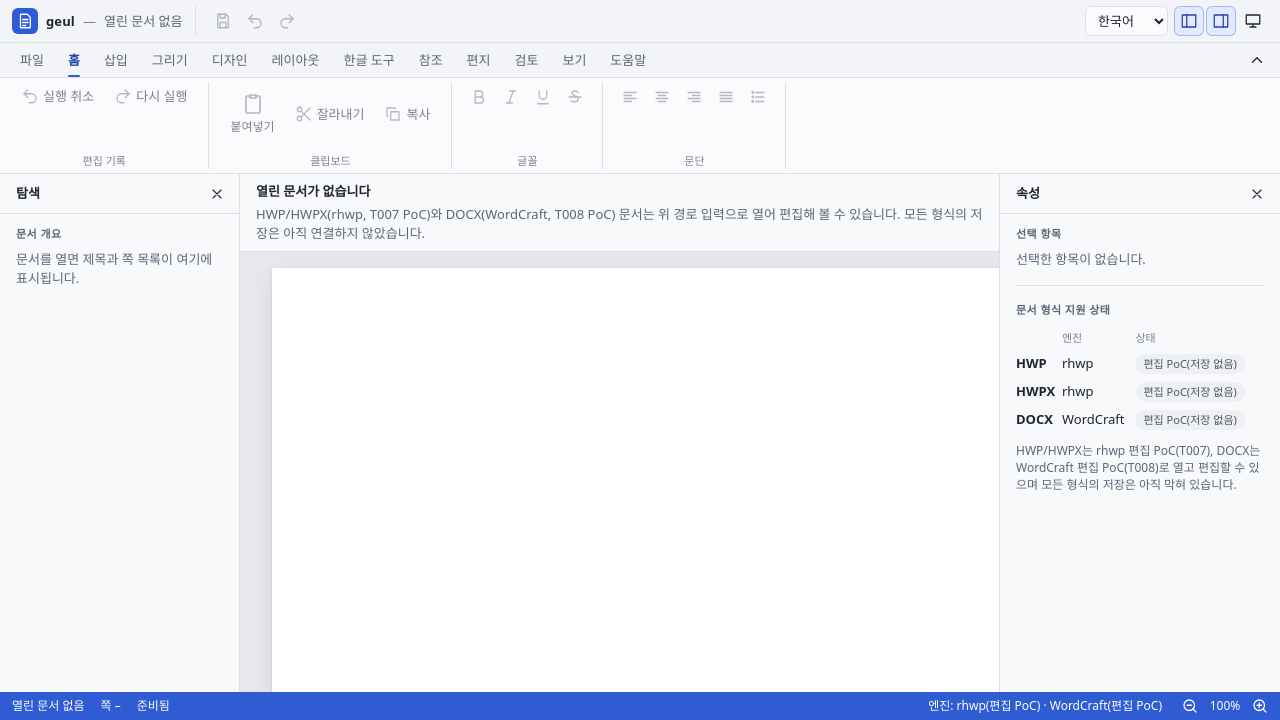
Scenario: 패널 표시와 숨기기 › 속성 창도 독립적으로 숨기고 되살린다
The image size is (1280, 720).
Step 1. Click the button named "속성 창 닫기" → (1257, 194), box [1242,178,1272,208]
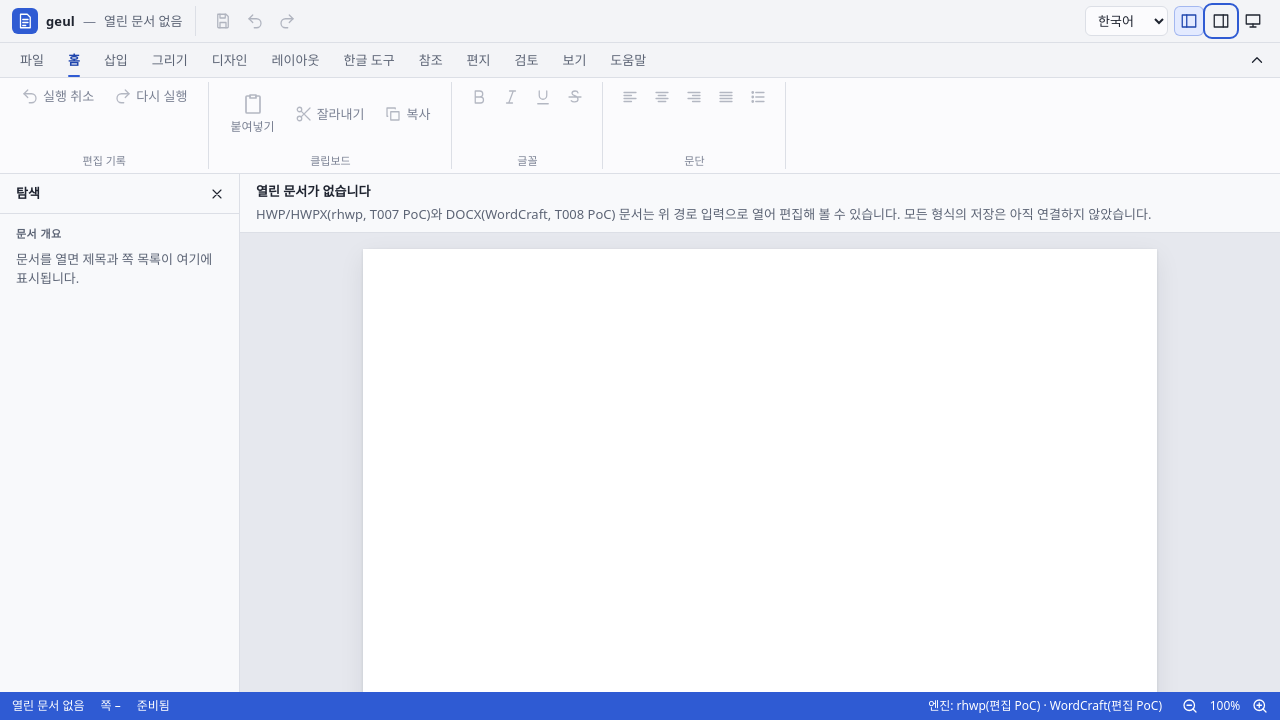
Check: the element "탐색" is shown, box [0,174,240,692]
Check: the heading "속성" is gone
Step 2. Click the button named "속성 창 표시" → (1221, 21), box [1206,6,1236,36]
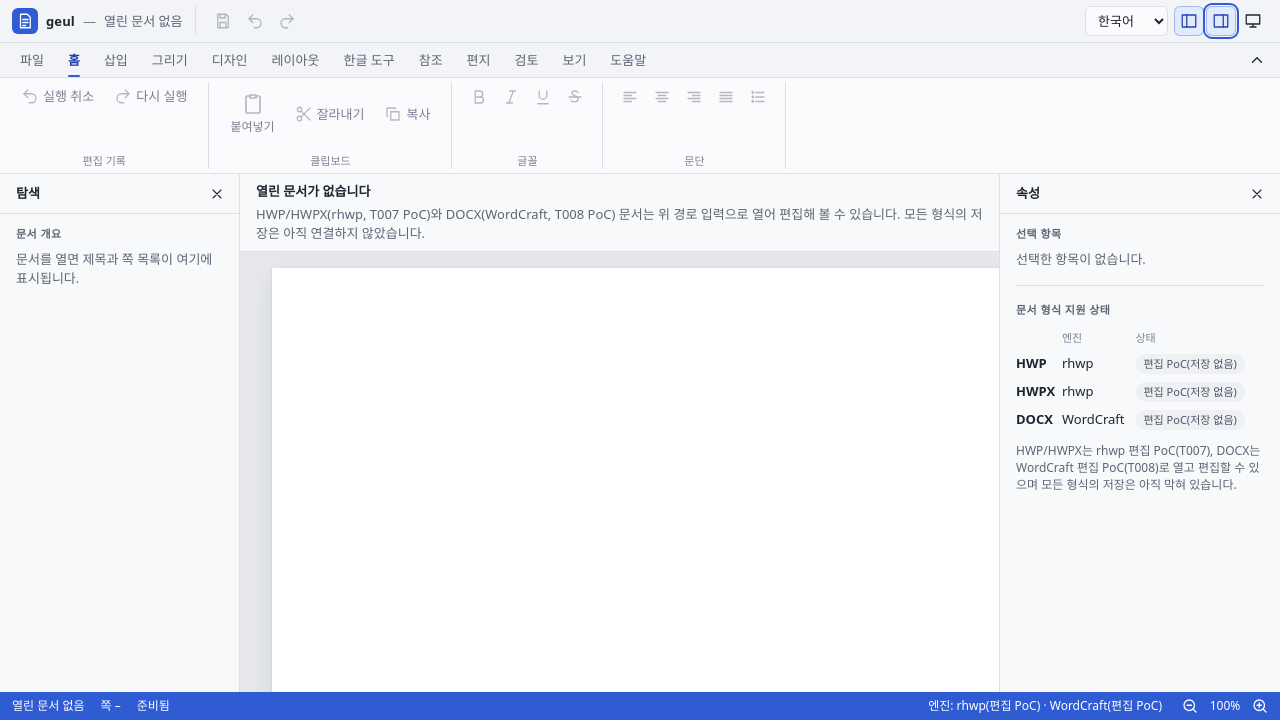
Check: the element "속성" is shown, box [1000,174,1279,692]
